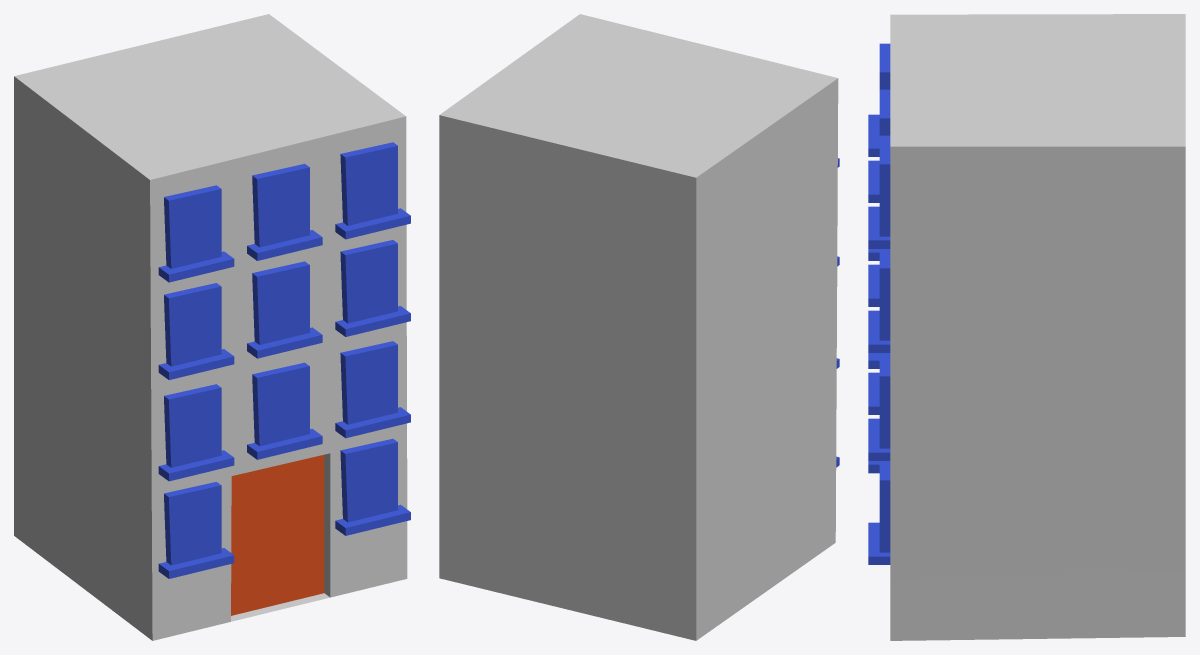
Rendered from budynek.fbx.
3 renders of one model, left to right at view 1: azimuth 30°, elevation 25°; view 2: azimuth 150°, elevation 25°; view 3: azimuth 270°, elevation 25°, orthographic. The views are drawn at different scales.
Parts seen in each view (by area): view 1: Plane; view 2: Plane; view 3: Plane.
Part boxes in pixels (x1=…): Plane: x1=14, y1=14, x2=410, y2=640; Plane: x1=439, y1=14, x2=839, y2=640; Plane: x1=868, y1=14, x2=1185, y2=640.
Size of the model in its own units: 500 by 860 by 500.
